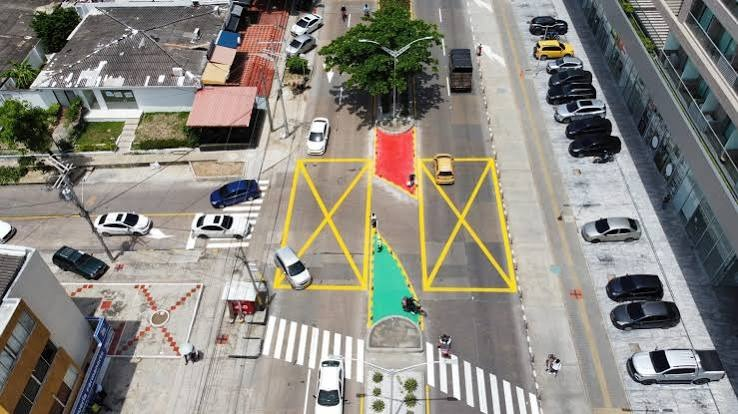car: (190, 207, 257, 241), (51, 246, 111, 281), (93, 210, 154, 238), (208, 177, 260, 209)
